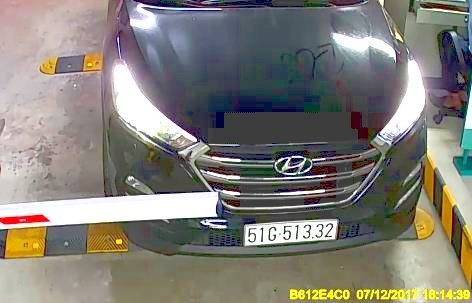plate: (245, 216, 341, 248)
